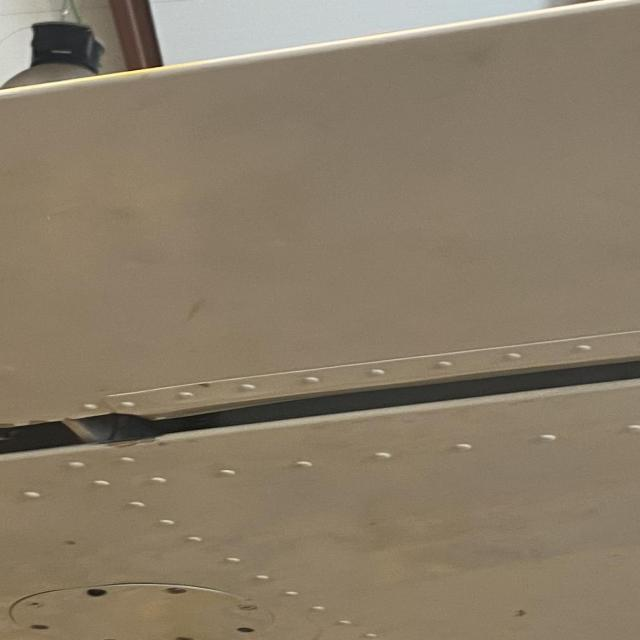Fastener Damage: (85, 586, 111, 600), (236, 624, 261, 638)
